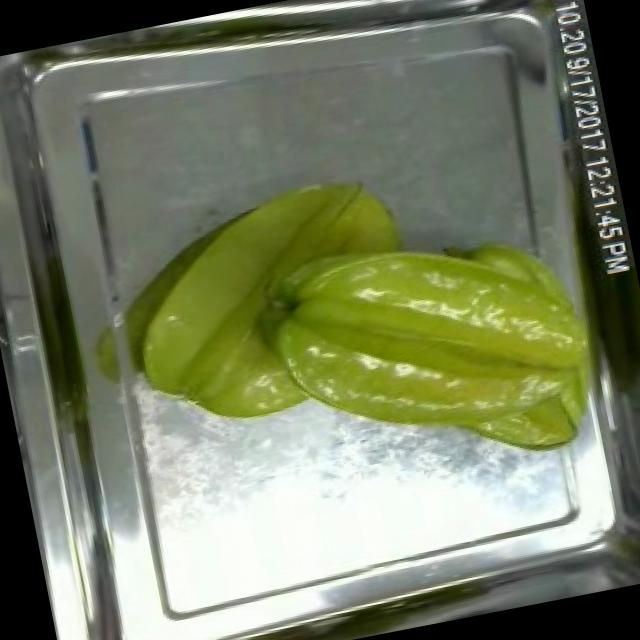fruit: (245, 198, 623, 512), (100, 162, 414, 452)
